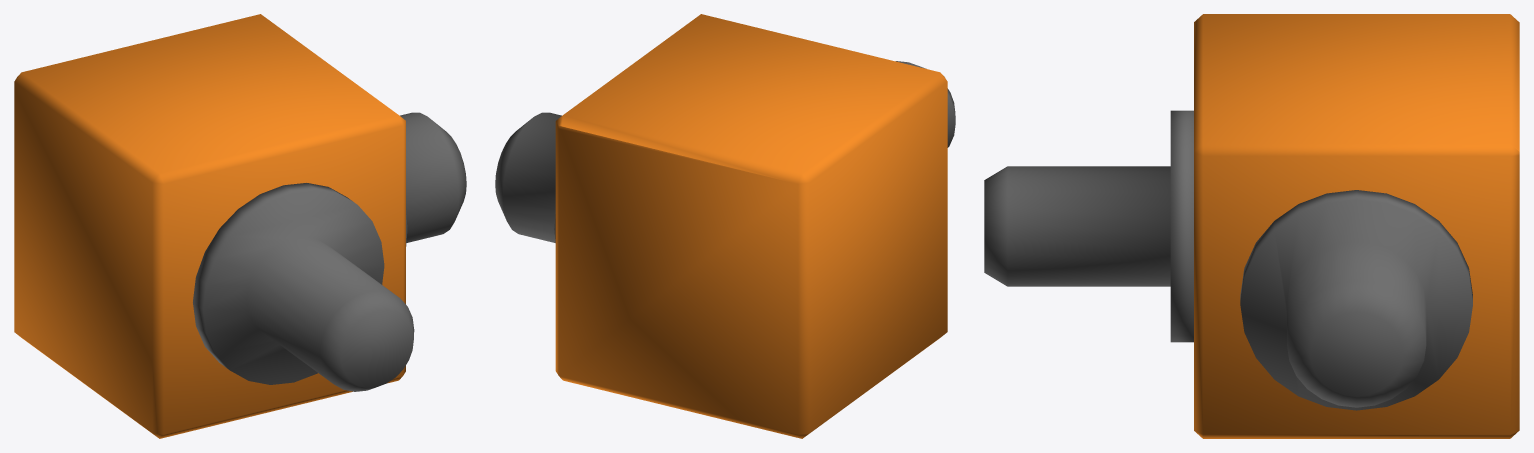
Rendered from regulator_orange.dae.
3 renders of one model, left to right at view 1: azimuth 30°, elevation 25°; view 2: azimuth 150°, elevation 25°; view 3: azimuth 270°, elevation 25°, orthographic. The views are drawn at different scales.
Visible parts, largest first — view 1: regulator_short_peg; view 2: regulator_short_peg; view 3: regulator_short_peg.
Part boxes in pixels (<box>): regulator_short_peg: <box>14,14,466,438</box>; regulator_short_peg: <box>495,14,955,438</box>; regulator_short_peg: <box>984,14,1519,438</box>.
Bounding box in the file's own units: 0.1 × 0.115 × 0.07.
